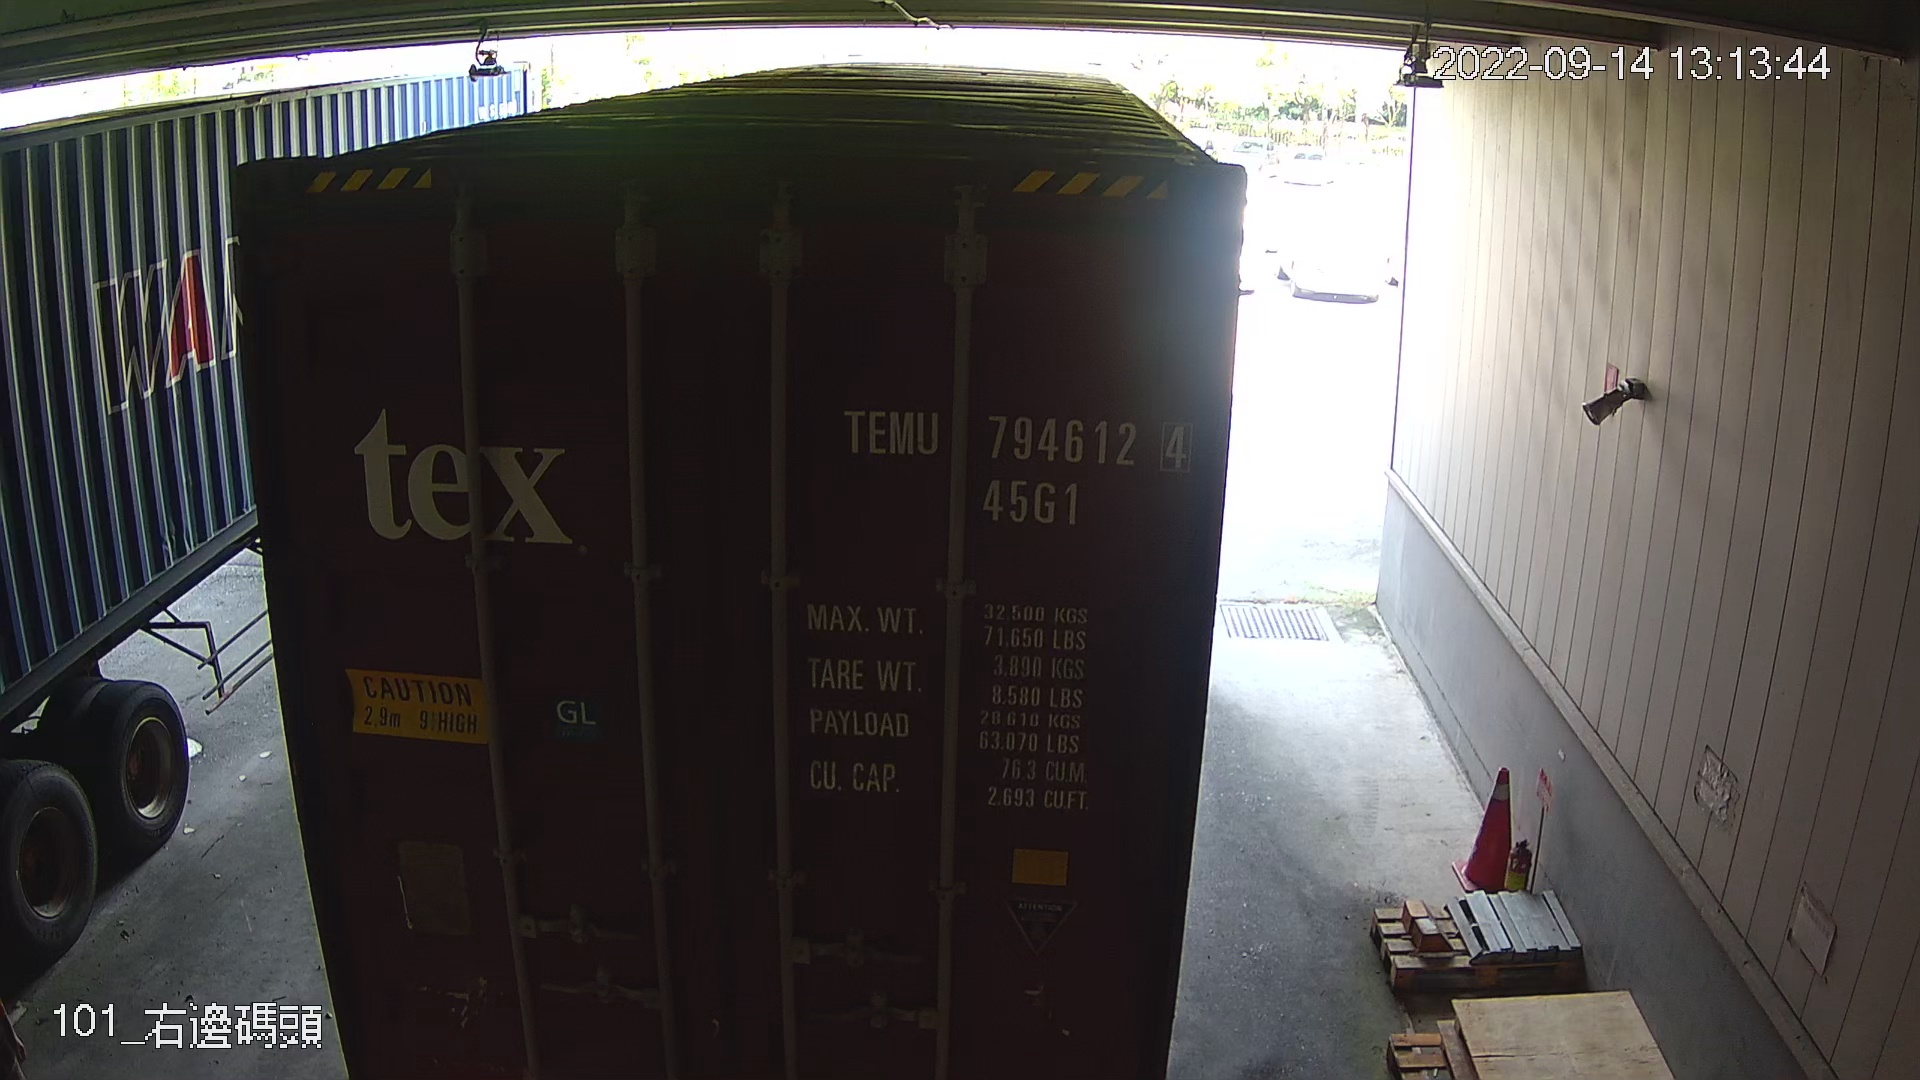container: (832, 389, 1203, 538)
